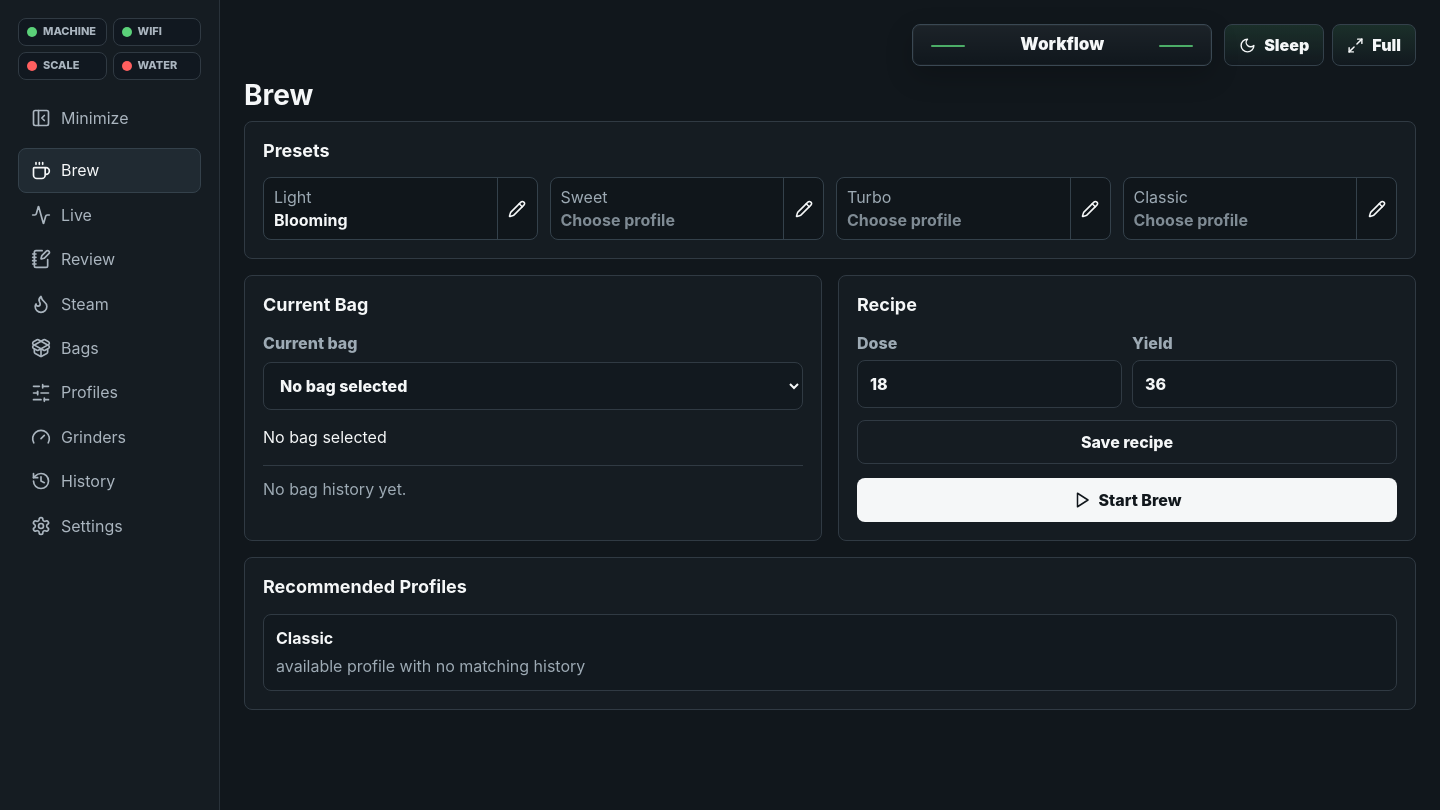
App shell › only lists shown profiles when choosing a preset profile
This screenshot has width=1440, height=810.
Click the button named "Edit Light" at [516, 209], box top-left (496, 178), bottom-right (536, 239)
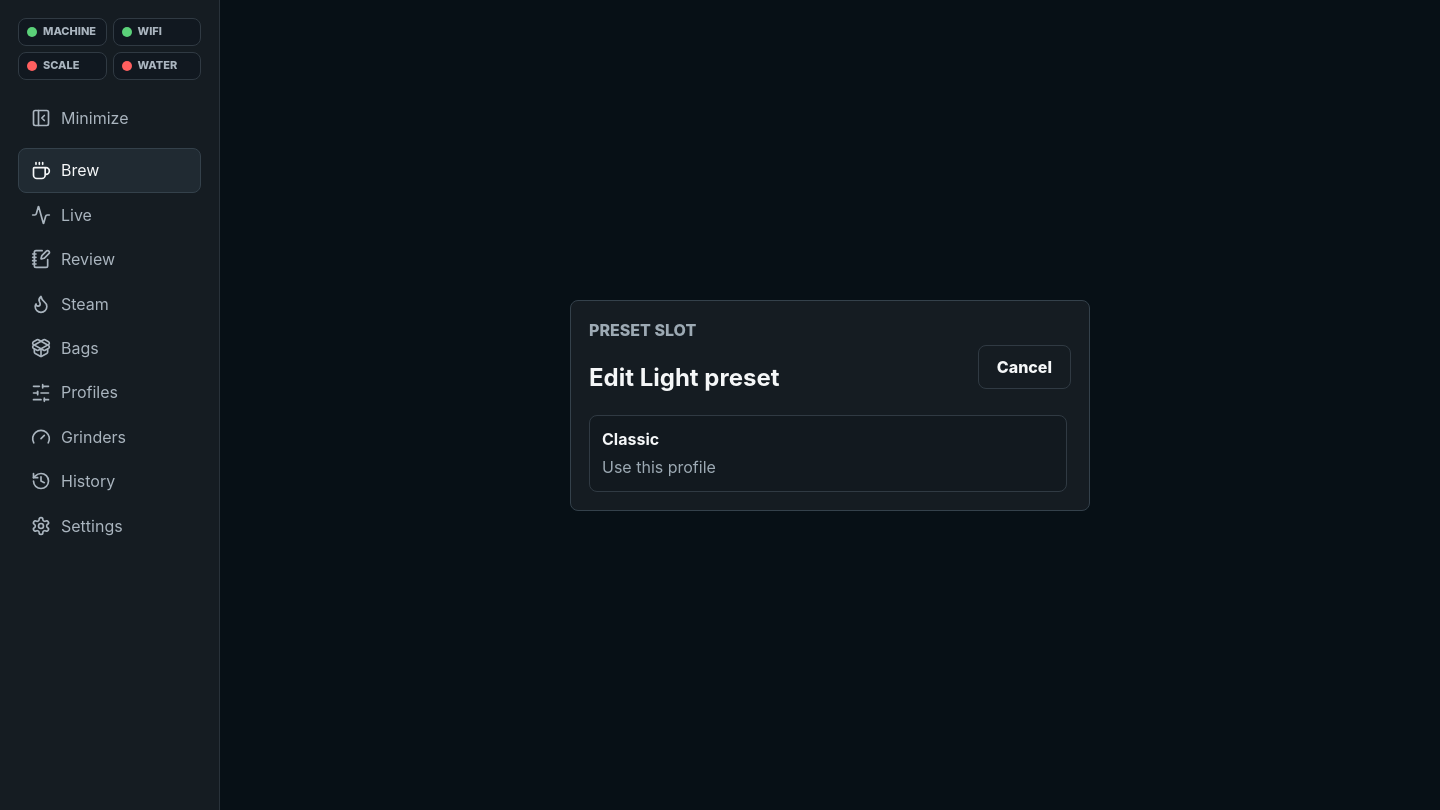
Expected: the button with aria-label "Use Classic" is shown, top-left (589, 414), bottom-right (1067, 491)
